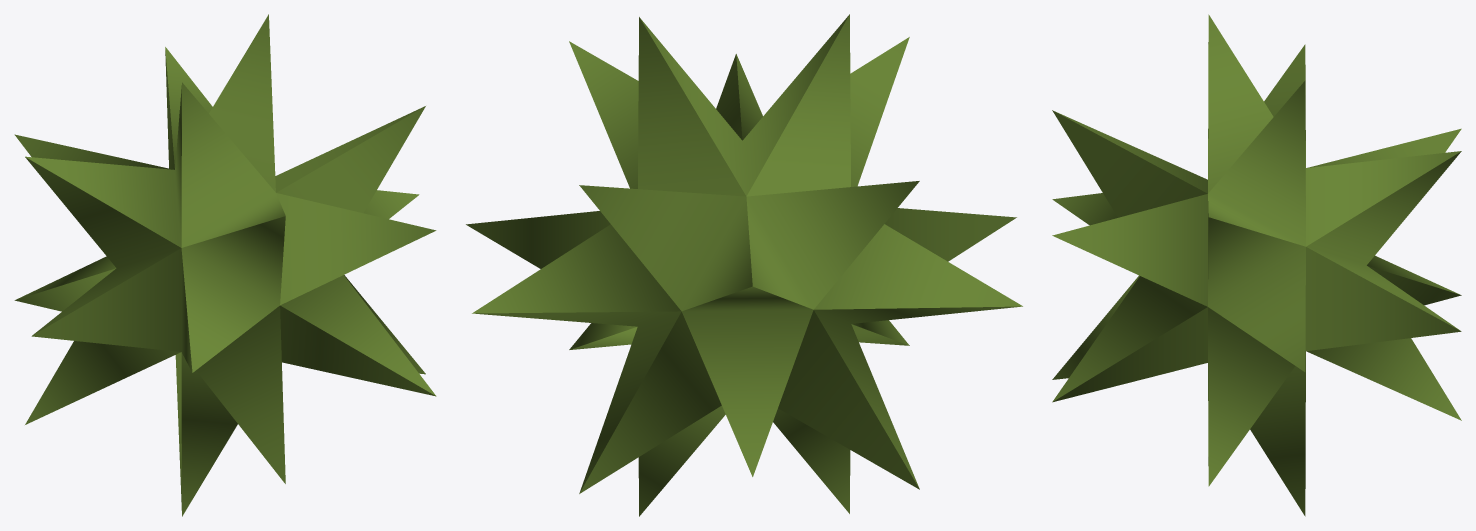
The model's file is bomb.fbx.
3 renders of one model, left to right at view 1: azimuth 30°, elevation 25°; view 2: azimuth 150°, elevation 25°; view 3: azimuth 270°, elevation 25°, orthographic. The views are drawn at different scales.
Parts seen in each view (by area): view 1: pPlatonic1; view 2: pPlatonic1; view 3: pPlatonic1.
Boxes of the visible parts, bbox=[...] form: pPlatonic1: bbox=[14, 14, 436, 516]; pPlatonic1: bbox=[466, 14, 1022, 516]; pPlatonic1: bbox=[1052, 14, 1461, 516].
Bounding box in the file's own units: 0.3734 × 0.3551 × 0.3021.
